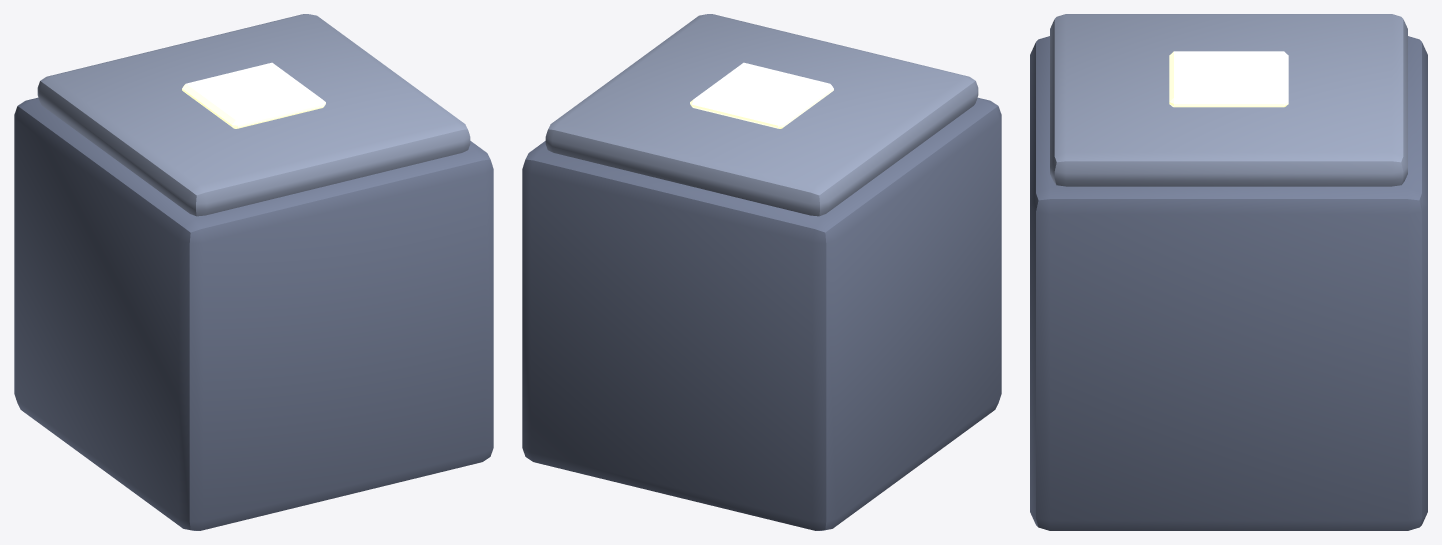
The model's file is wall.glb.
3 renders of one model, left to right at view 1: azimuth 30°, elevation 25°; view 2: azimuth 150°, elevation 25°; view 3: azimuth 270°, elevation 25°, orthographic. The views are drawn at different scales.
Parts seen in each view (by area): view 1: wall; view 2: wall; view 3: wall.
Part boxes in pixels (bbox=[...]): wall: bbox=[14, 14, 493, 530]; wall: bbox=[522, 14, 1001, 530]; wall: bbox=[1030, 14, 1427, 530].
Bounding box in the file's own units: 1 × 1.05 × 1.
